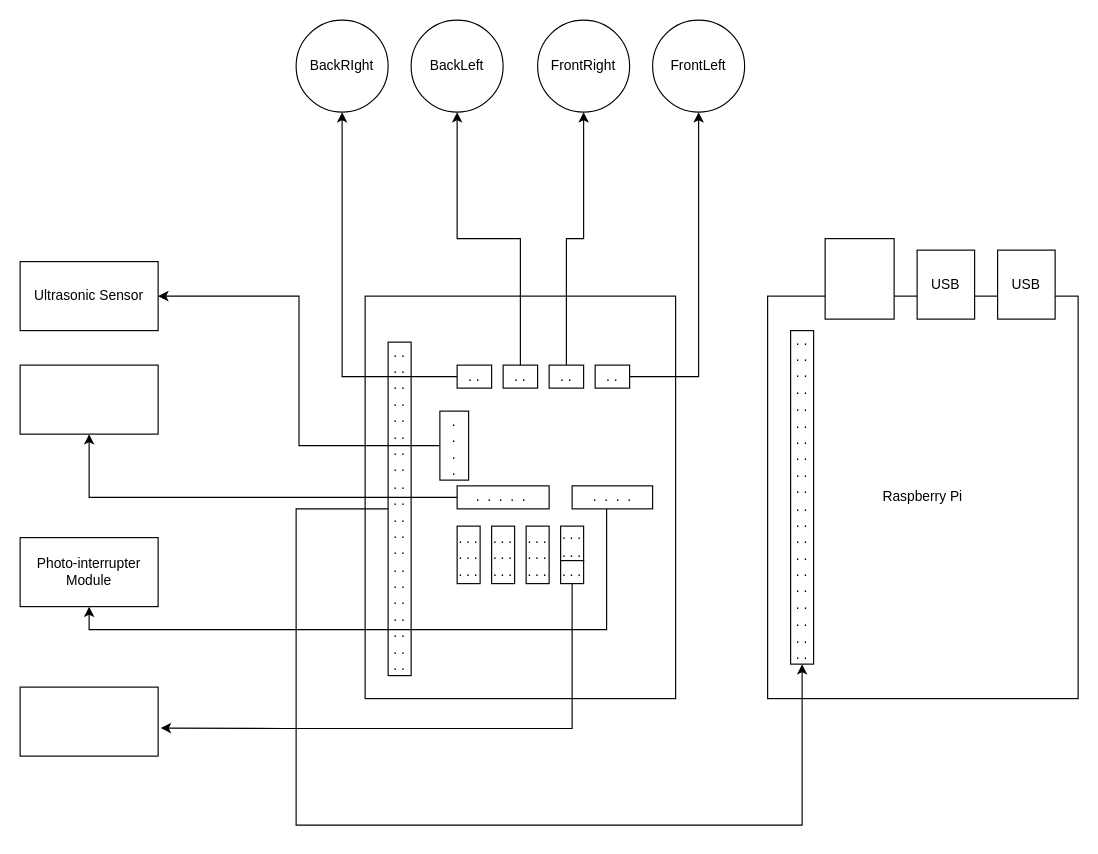
Image size: 1098x854. Some labels were removed from this diagram. The centre of each missing label's shape, as x and y in pixels:
"Ethernet" goes at point 859,278.
"Greyscale Sensor" goes at point 88,399.
"Servo" goes at point 88,721.
